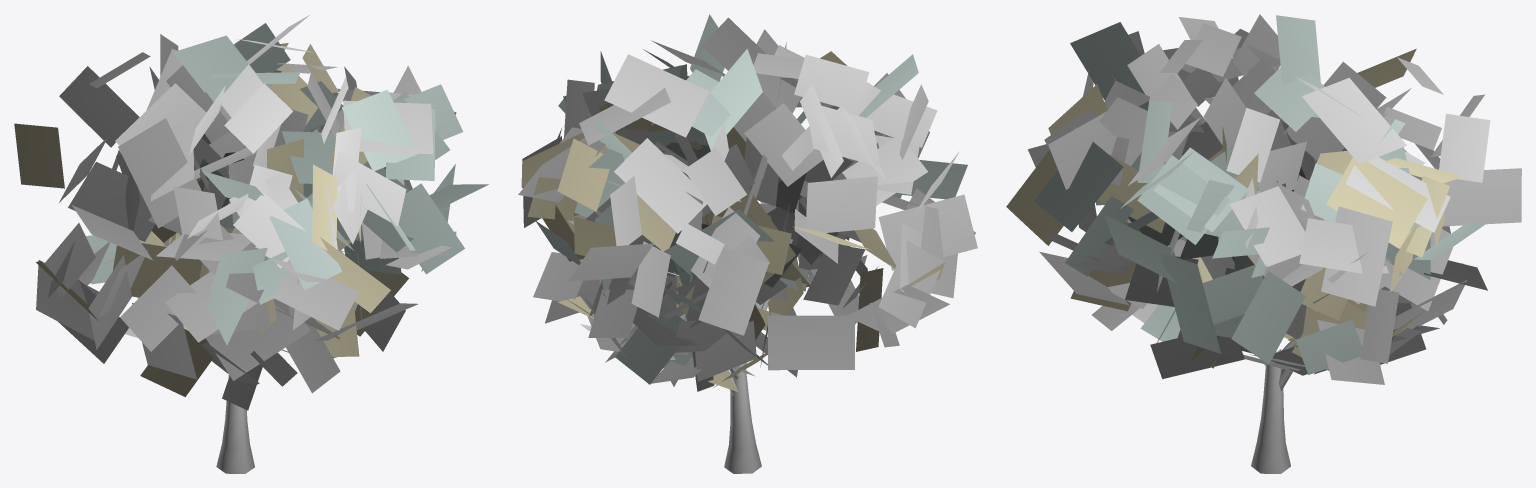
File: yard-ornamental.lod0.glb
3 renders of one model, left to right at view 1: azimuth 30°, elevation 25°; view 2: azimuth 150°, elevation 25°; view 3: azimuth 270°, elevation 25°, orthographic. The views are drawn at different scales.
Visible parts, largest first — view 1: yard-ornamental; view 2: yard-ornamental; view 3: yard-ornamental.
Boxes of the visible parts, bbox=[...] form: yard-ornamental: bbox=[14, 15, 488, 473]; yard-ornamental: bbox=[518, 14, 977, 473]; yard-ornamental: bbox=[1006, 14, 1521, 473].
Bounding box in the file's own units: 1.33 × 1.36 × 1.42.
